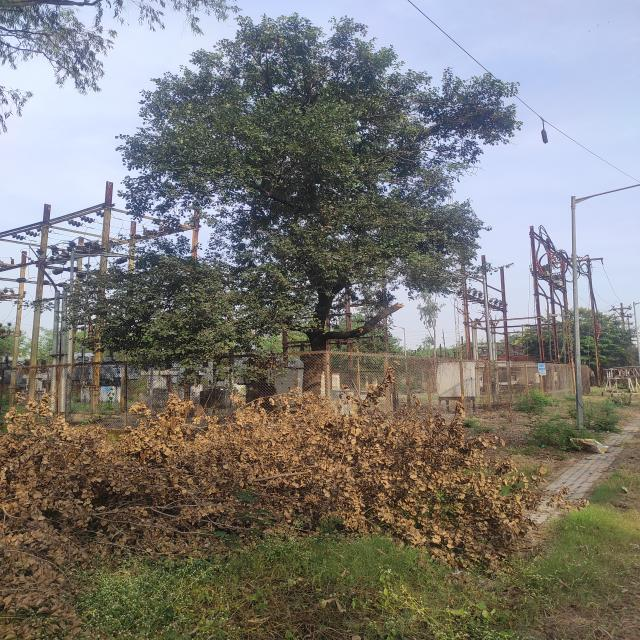Devakanchan tree: (134, 26, 507, 337)
